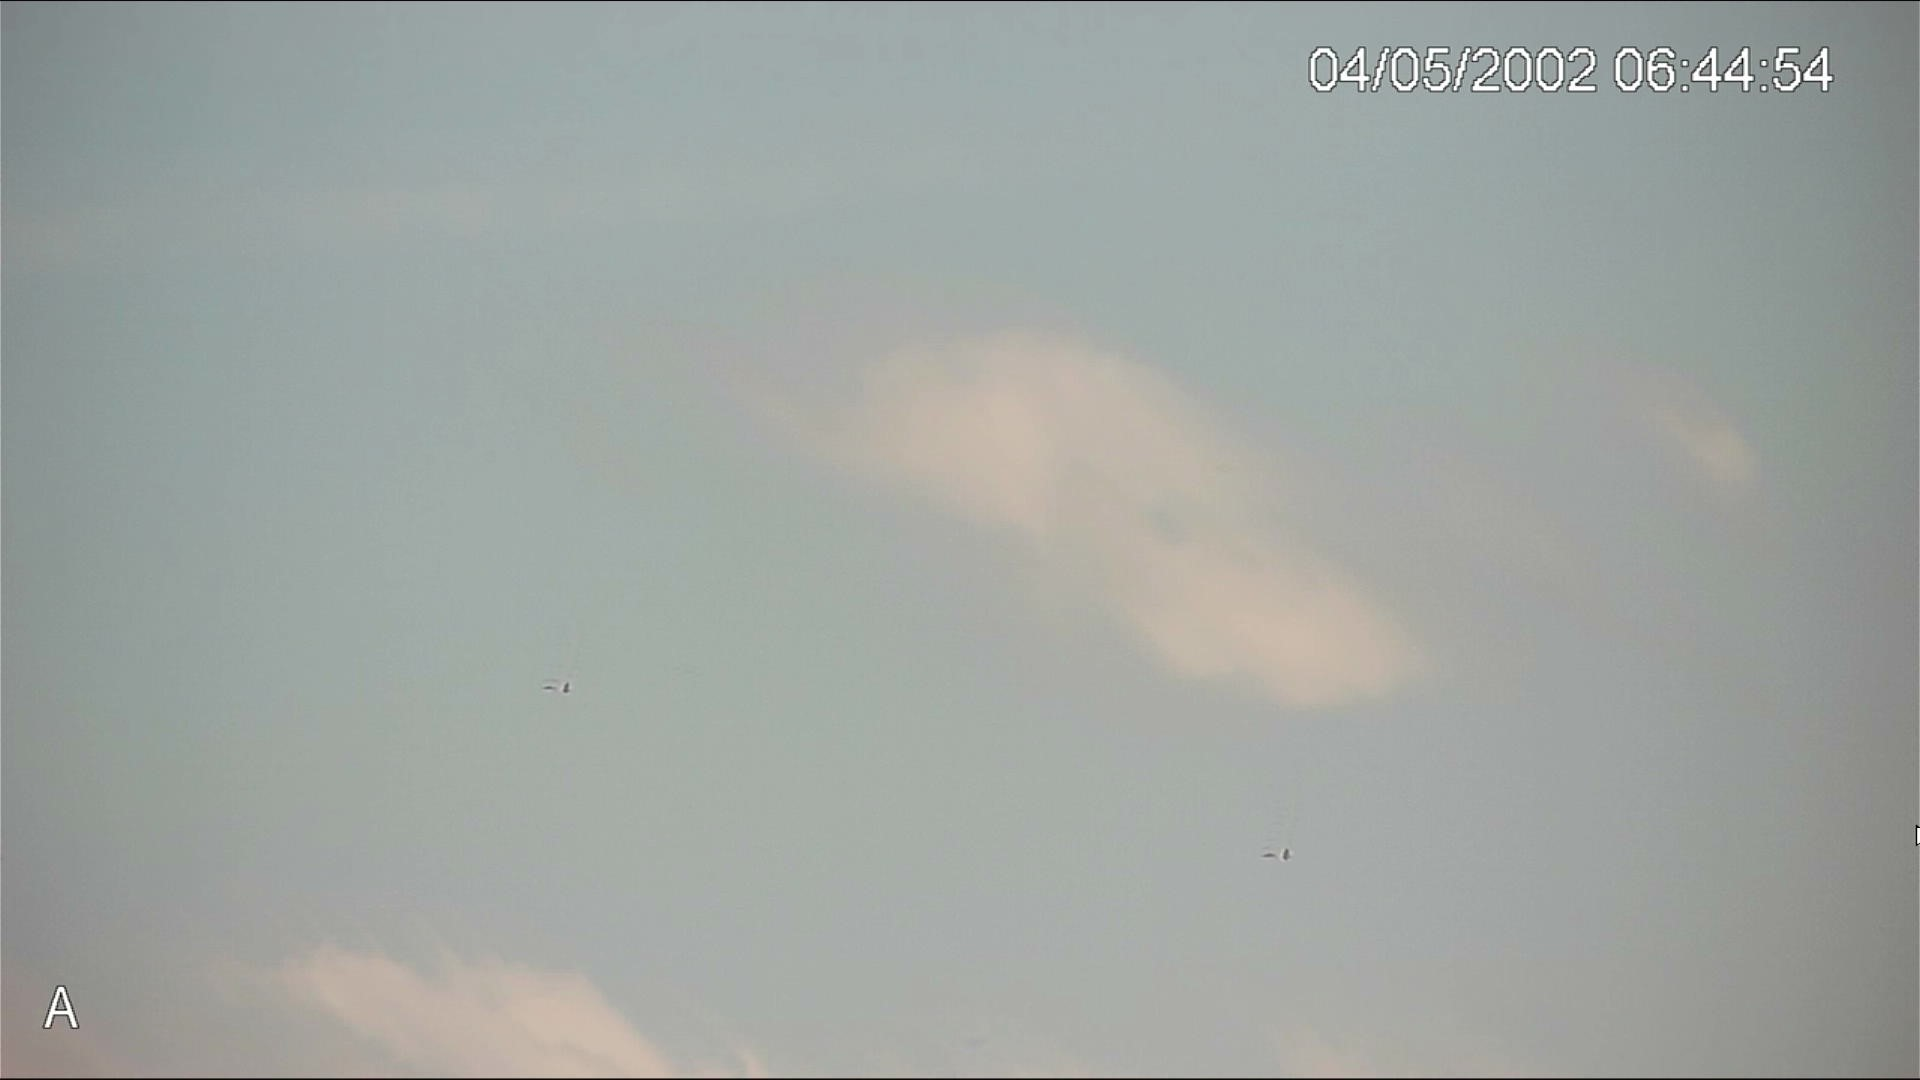SU_30: (542, 675, 570, 696), (1263, 844, 1288, 862)
